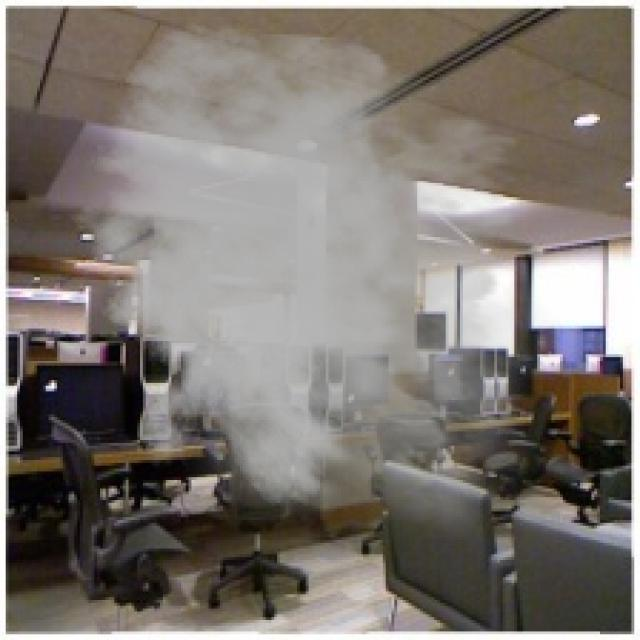Smoke: (54, 22, 580, 554)
